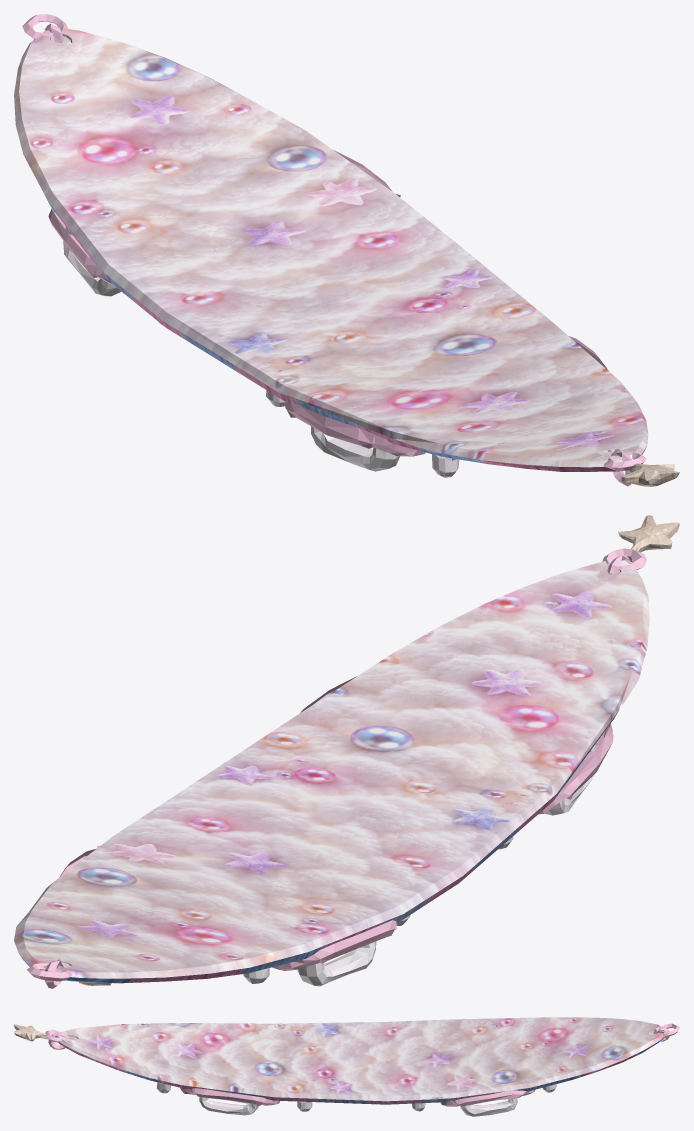
The model's file is snow64-snowboard.glb.
3 views of the same model, one above another, from view 1: azimuth 30°, elevation 25°; view 2: azimuth 150°, elevation 25°; view 3: azimuth 270°, elevation 25° (orthographic). The views are drawn at different scales.
Visible parts, largest first — view 1: 01_WHITE_CLOUD_PLUSH_TOP, 04_ROSE_HANDLE_BASES, 02_PINK_BLUE_PLUSH_BOTTOM, 03_SATIN_ROSE_HANDLES, 06_ROSE_HANGER_LOOPS, 02_IVORY_3D_PLUSH_STARS; view 2: 01_WHITE_CLOUD_PLUSH_TOP, 04_ROSE_HANDLE_BASES, 02_PINK_BLUE_PLUSH_BOTTOM, 03_SATIN_ROSE_HANDLES, 06_ROSE_HANGER_LOOPS, 02_IVORY_3D_PLUSH_STARS; view 3: 01_WHITE_CLOUD_PLUSH_TOP, 02_PINK_BLUE_PLUSH_BOTTOM, 04_ROSE_HANDLE_BASES, 03_SATIN_ROSE_HANDLES, 06_ROSE_HANGER_LOOPS, 05_PEARL_RIVETS, 02_IVORY_3D_PLUSH_STARS.
Boxes of the visible parts, x1,y1,x2,y2 form: 01_WHITE_CLOUD_PLUSH_TOP: [14, 27, 648, 467]; 04_ROSE_HANDLE_BASES: [48, 150, 610, 456]; 02_PINK_BLUE_PLUSH_BOTTOM: [47, 200, 646, 471]; 03_SATIN_ROSE_HANDLES: [63, 226, 399, 471]; 06_ROSE_HANGER_LOOPS: [22, 14, 646, 486]; 02_IVORY_3D_PLUSH_STARS: [621, 463, 679, 486]; 01_WHITE_CLOUD_PLUSH_TOP: [14, 559, 649, 978]; 04_ROSE_HANDLE_BASES: [60, 676, 613, 970]; 02_PINK_BLUE_PLUSH_BOTTOM: [19, 572, 620, 983]; 03_SATIN_ROSE_HANDLES: [297, 745, 595, 986]; 06_ROSE_HANGER_LOOPS: [27, 548, 646, 988]; 02_IVORY_3D_PLUSH_STARS: [79, 515, 679, 985]; 01_WHITE_CLOUD_PLUSH_TOP: [56, 1017, 666, 1101]; 02_PINK_BLUE_PLUSH_BOTTOM: [59, 1034, 664, 1104]; 04_ROSE_HANDLE_BASES: [180, 1087, 535, 1106]; 03_SATIN_ROSE_HANDLES: [199, 1096, 517, 1116]; 06_ROSE_HANGER_LOOPS: [45, 1023, 679, 1049]; 05_PEARL_RIVETS: [157, 1082, 556, 1111]; 02_IVORY_3D_PLUSH_STARS: [14, 1024, 48, 1041].
Bounding box in the file's own units: 0.2627 × 0.0969 × 0.9344.
Materials: 7 (3 with a texture image).
